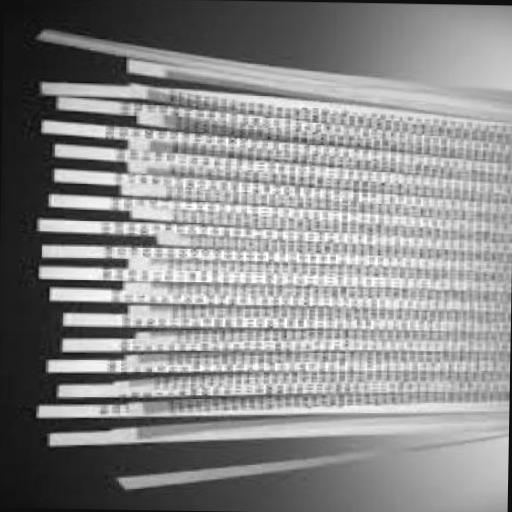paper: (31, 27, 512, 498)
